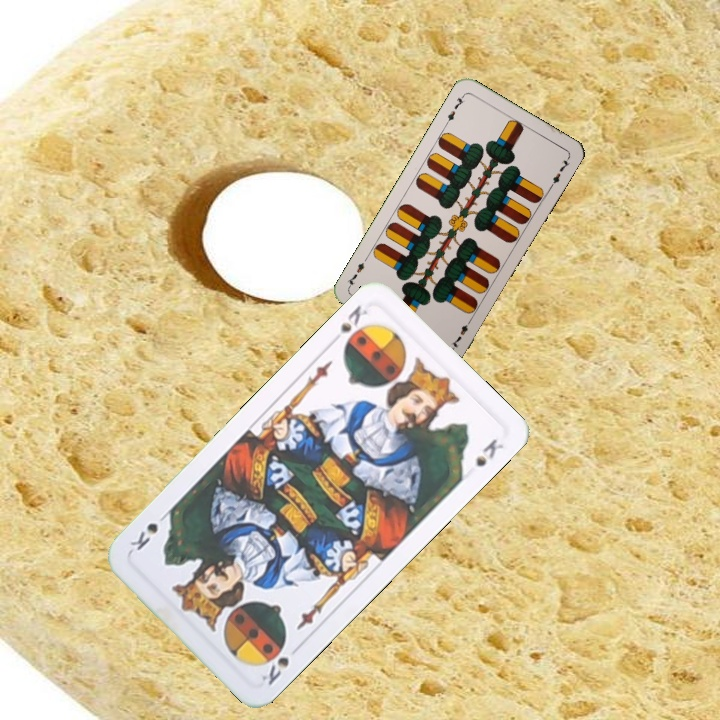E7: (441, 90, 468, 127), (447, 314, 474, 351)
SK: (326, 300, 370, 348), (257, 638, 292, 688)
